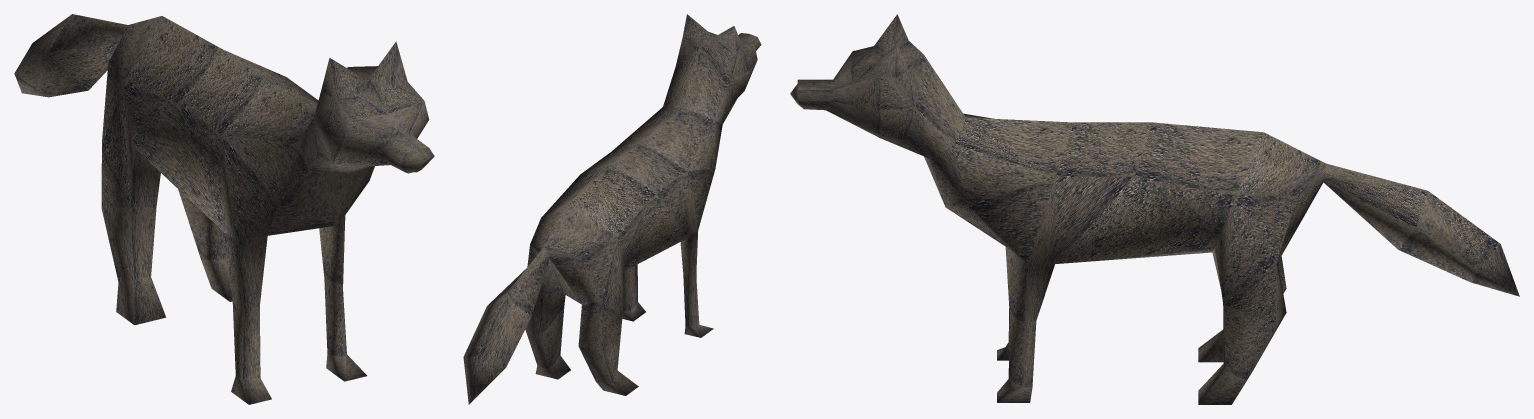
File: redfox.obj
The picture shows the model from 3 angles, left to right: view 1: azimuth 30°, elevation 25°; view 2: azimuth 150°, elevation 25°; view 3: azimuth 270°, elevation 25°; orthographic projection. The views are drawn at different scales.
Visible parts, largest first — view 1: Cube_Cube.001; view 2: Cube_Cube.001; view 3: Cube_Cube.001.
Part boxes in pixels (left/top/right/bottom): Cube_Cube.001: left=14, top=14, right=434, bottom=404; Cube_Cube.001: left=463, top=14, right=761, bottom=404; Cube_Cube.001: left=790, top=14, right=1519, bottom=404.
Bounding box in the file's own units: 0.1639 × 0.4689 × 0.8919.
